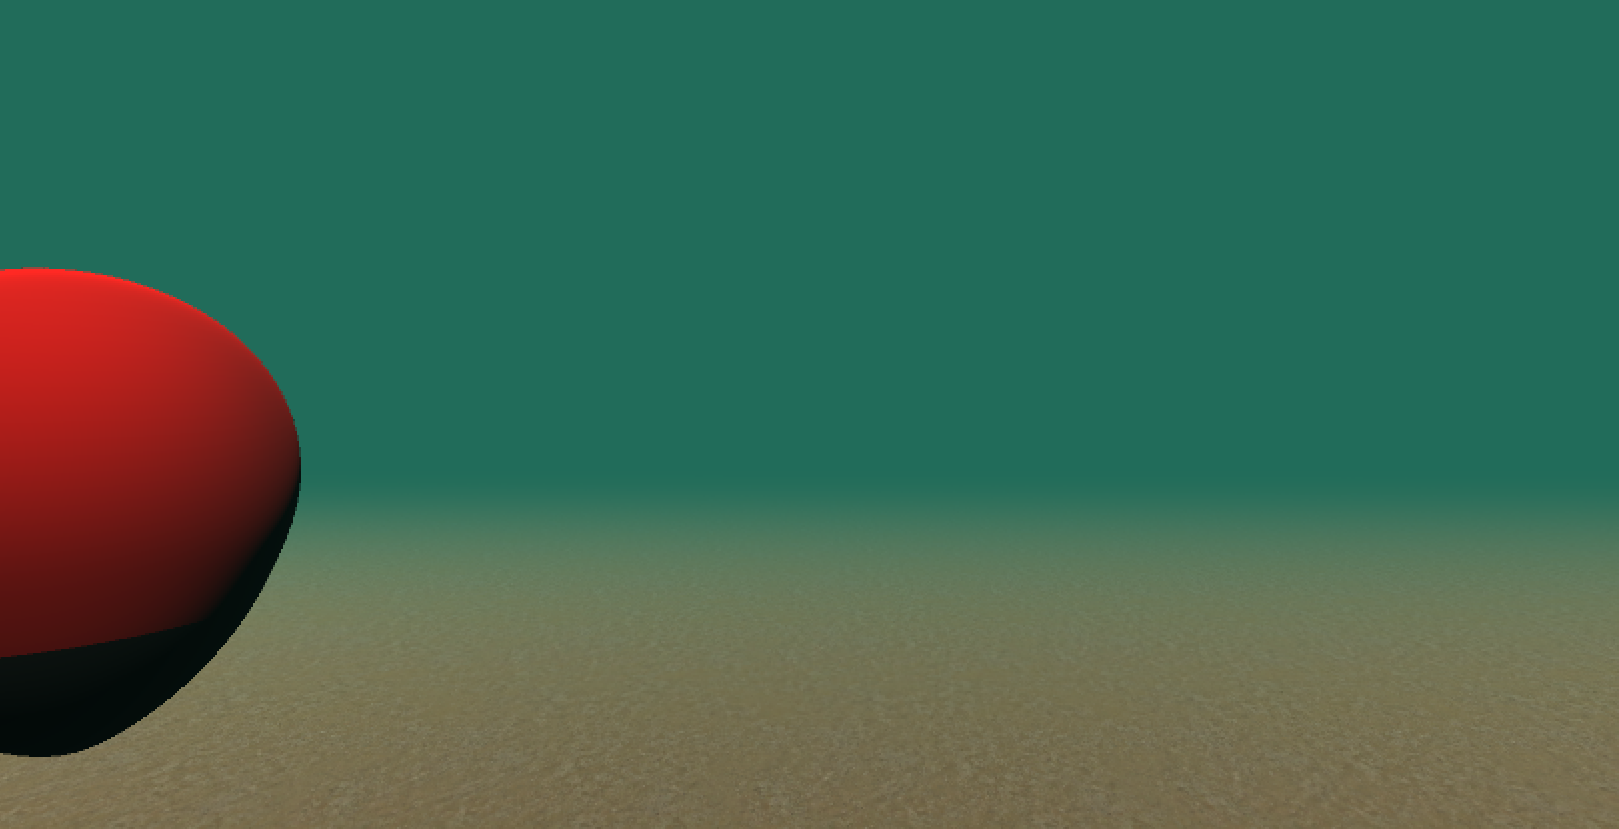red buoy: (1, 264, 308, 762)
